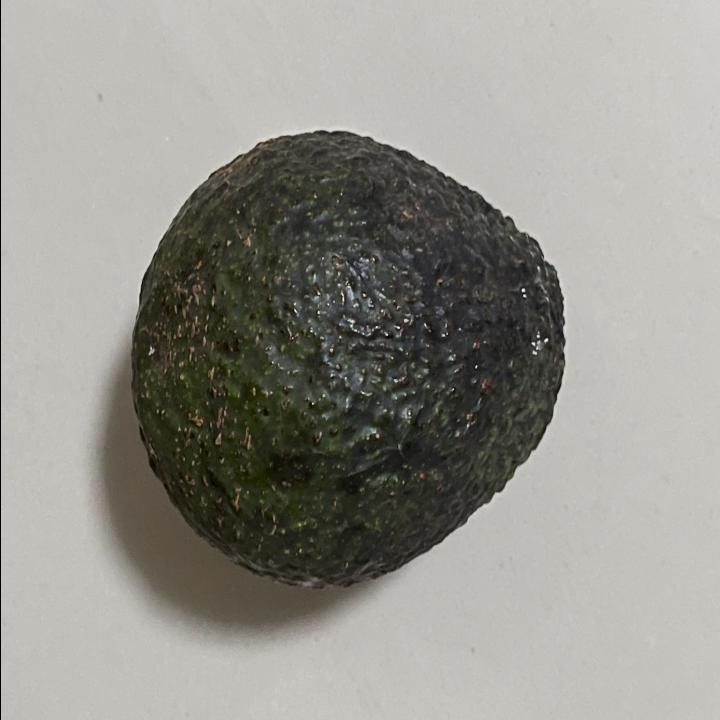Level1: (115, 116, 580, 610)
